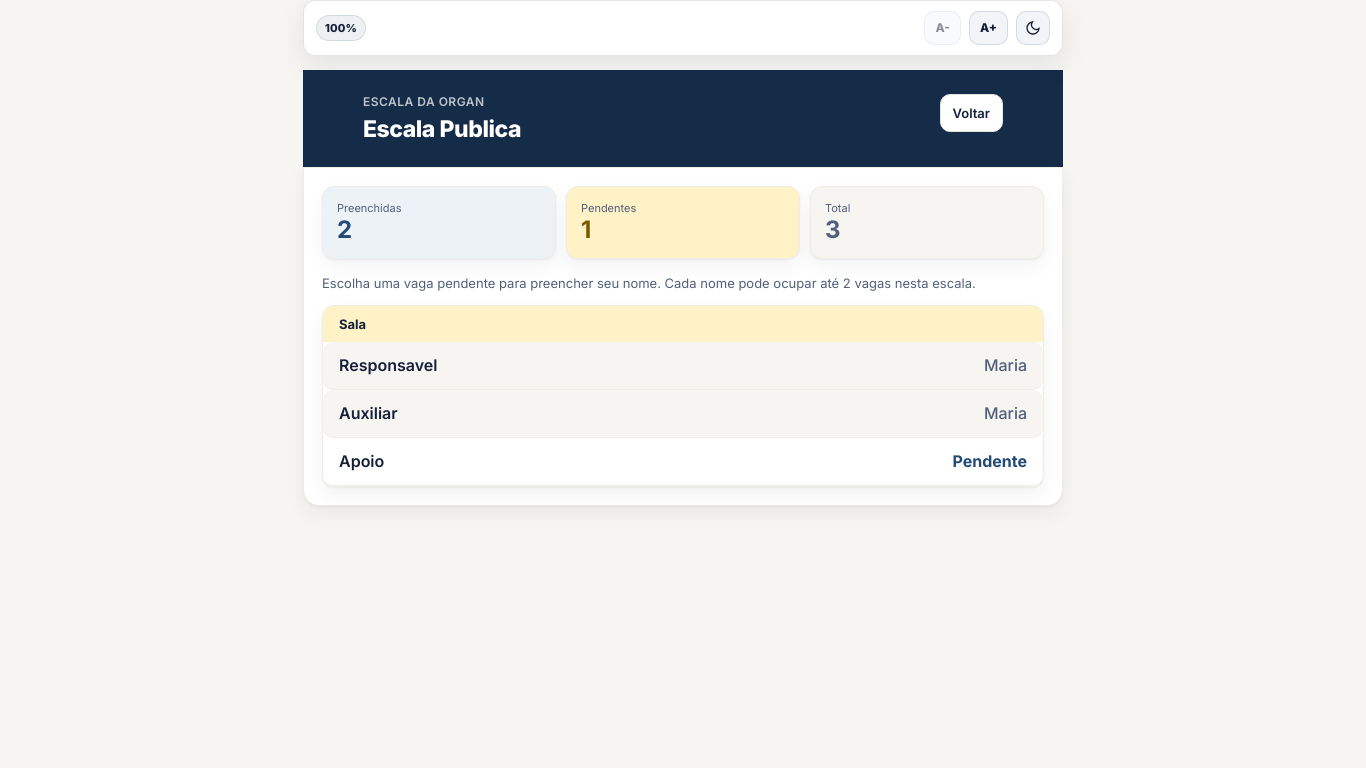
Test: PublicEscalaScreen › bloqueia quando a pessoa ja atingiu o limite configurado na escala
Click the button "Apoio Pendente" at [362, 461], box x1=323 y1=438 x2=1043 y2=486
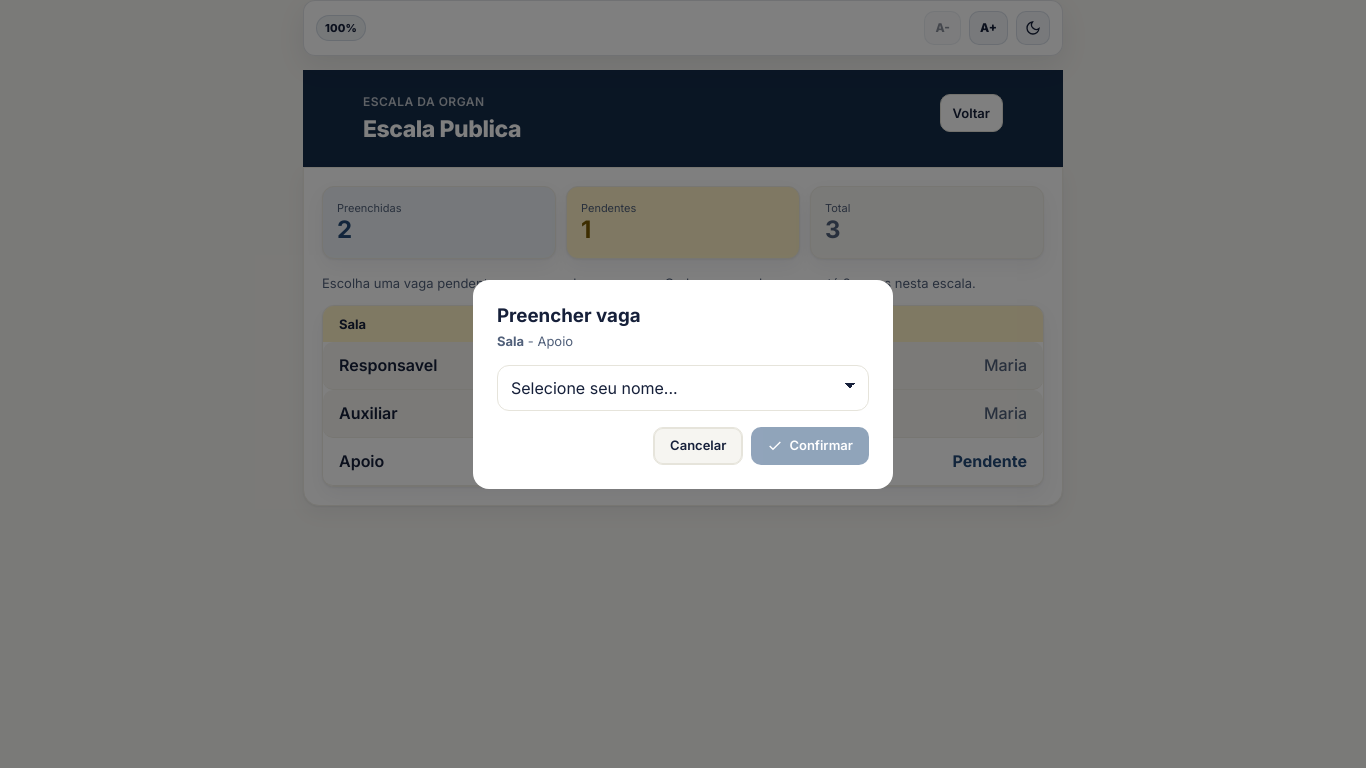
Select "Maria" in the dropdown at [683, 388], box x1=497 y1=364 x2=869 y2=410
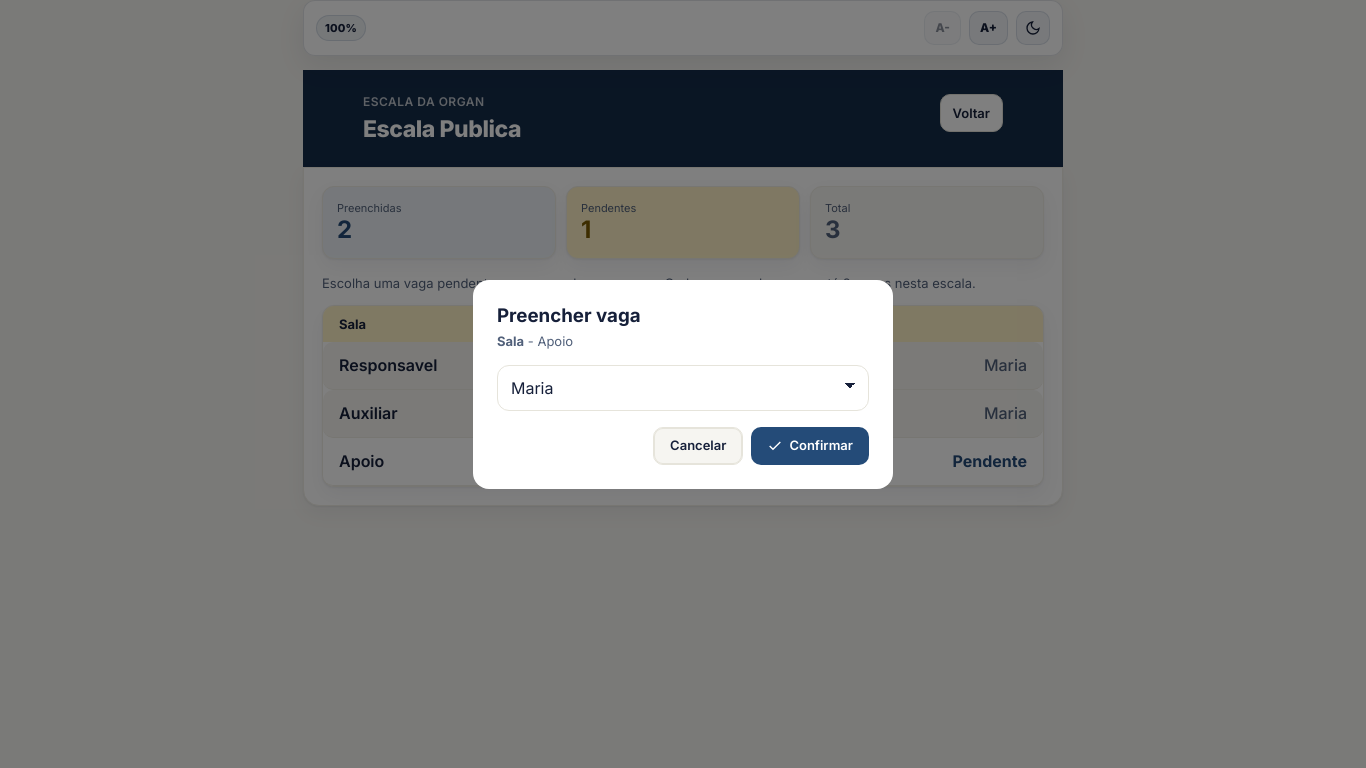
Click the button "Confirmar" at [810, 446], box x1=751 y1=426 x2=869 y2=464
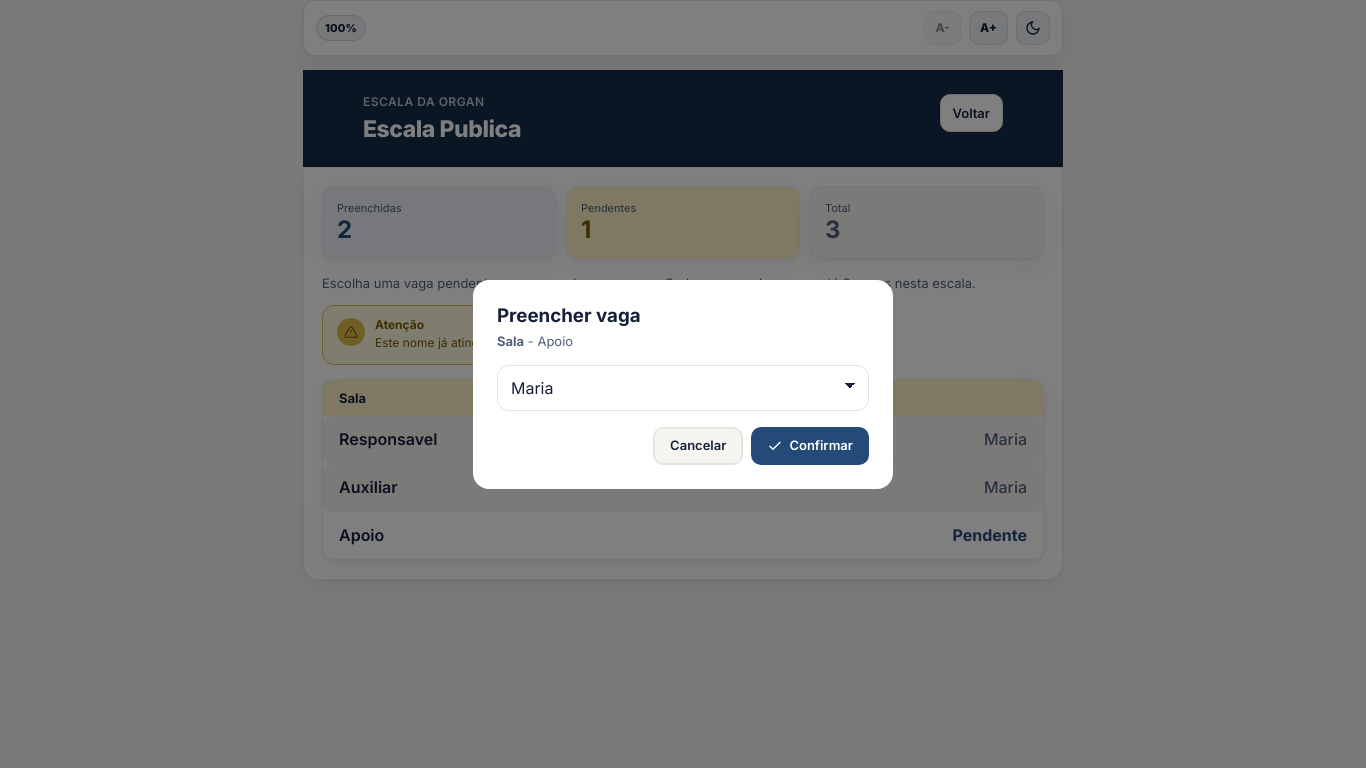
Check: the message shows "limite de vagas", box x1=375 y1=335 x2=666 y2=350
